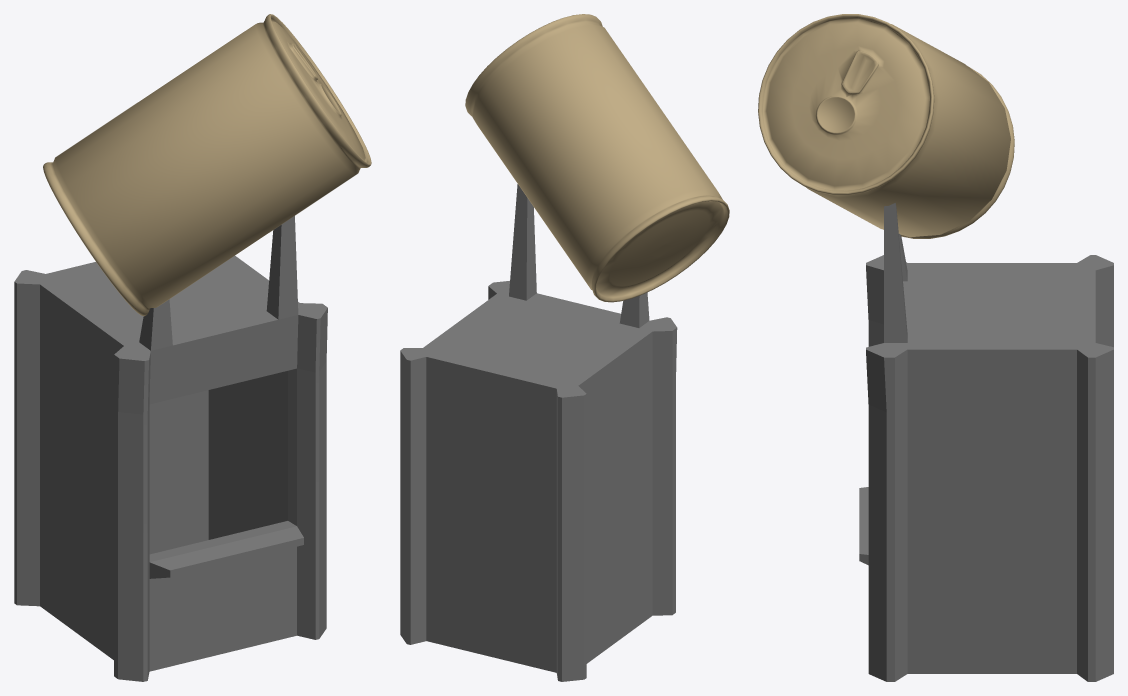
The model's file is SM_PopBooth.fbx.
The picture shows the model from 3 angles, left to right: view 1: azimuth 30°, elevation 25°; view 2: azimuth 150°, elevation 25°; view 3: azimuth 270°, elevation 25°; orthographic projection. The views are drawn at different scales.
Parts seen in each view (by area): view 1: CanBooth_high, Can_high; view 2: CanBooth_high, Can_high; view 3: CanBooth_high, Can_high.
Boxes of the visible parts, x1,y1,x2,y2 form: CanBooth_high: (14,216,327,681); Can_high: (43,14,371,316); CanBooth_high: (400,184,677,681); Can_high: (465,14,729,302); CanBooth_high: (859,203,1113,681); Can_high: (758,14,1014,238).
Size of the model in its own units: 126 by 267 by 136.
